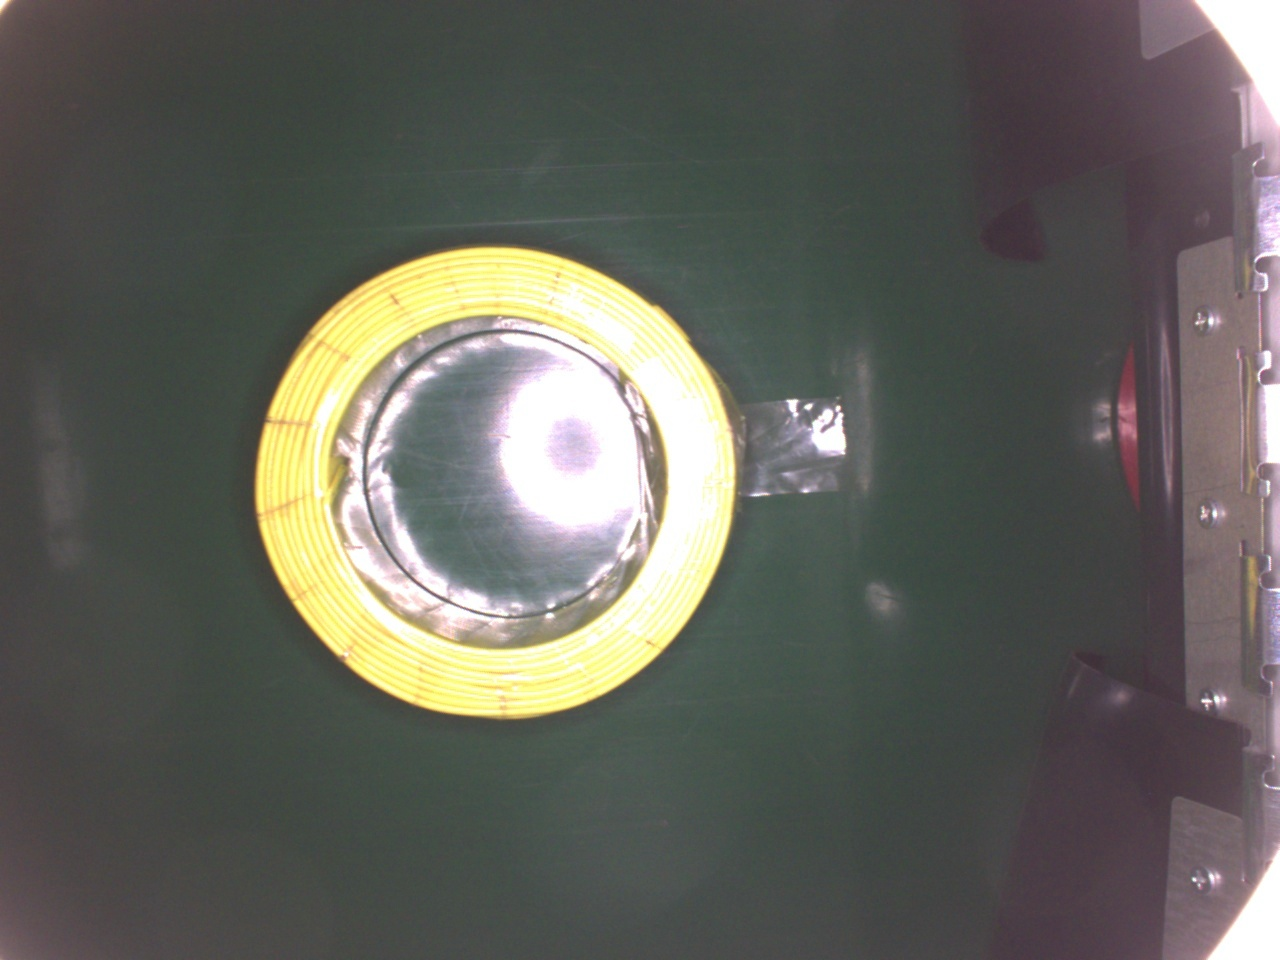yellow: (253, 239, 744, 730)
